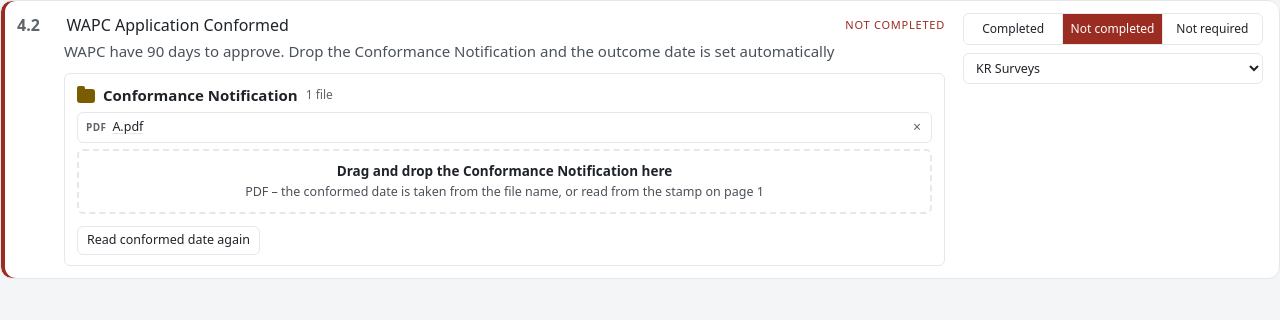
conformance panel › after a reload while a reading is queued or running (QA r2) › shows the server's own words when it refuses a second reading as already running
The width and height of the screenshot is (1280, 320).
Click the button "Read conformed date again".
click(168, 240)  # box [77,226,260,255]
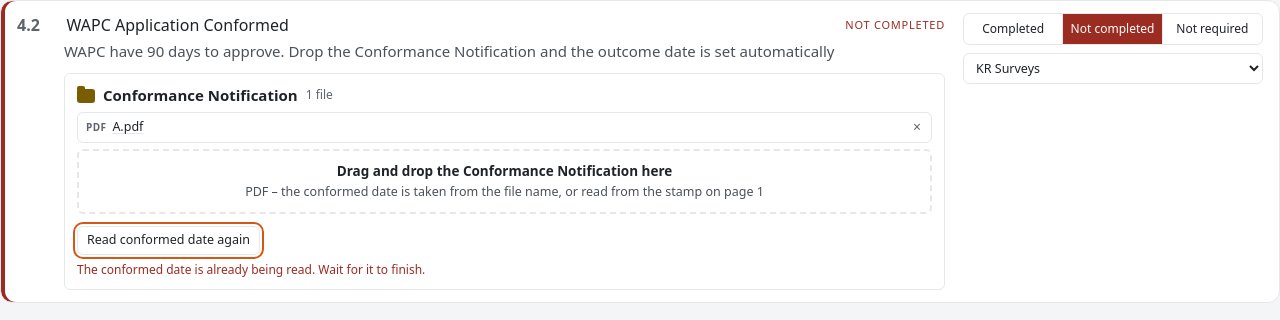
Now the text "The conformed date is already being read. Wait for it to finish." is shown, box [77,260,425,278]
